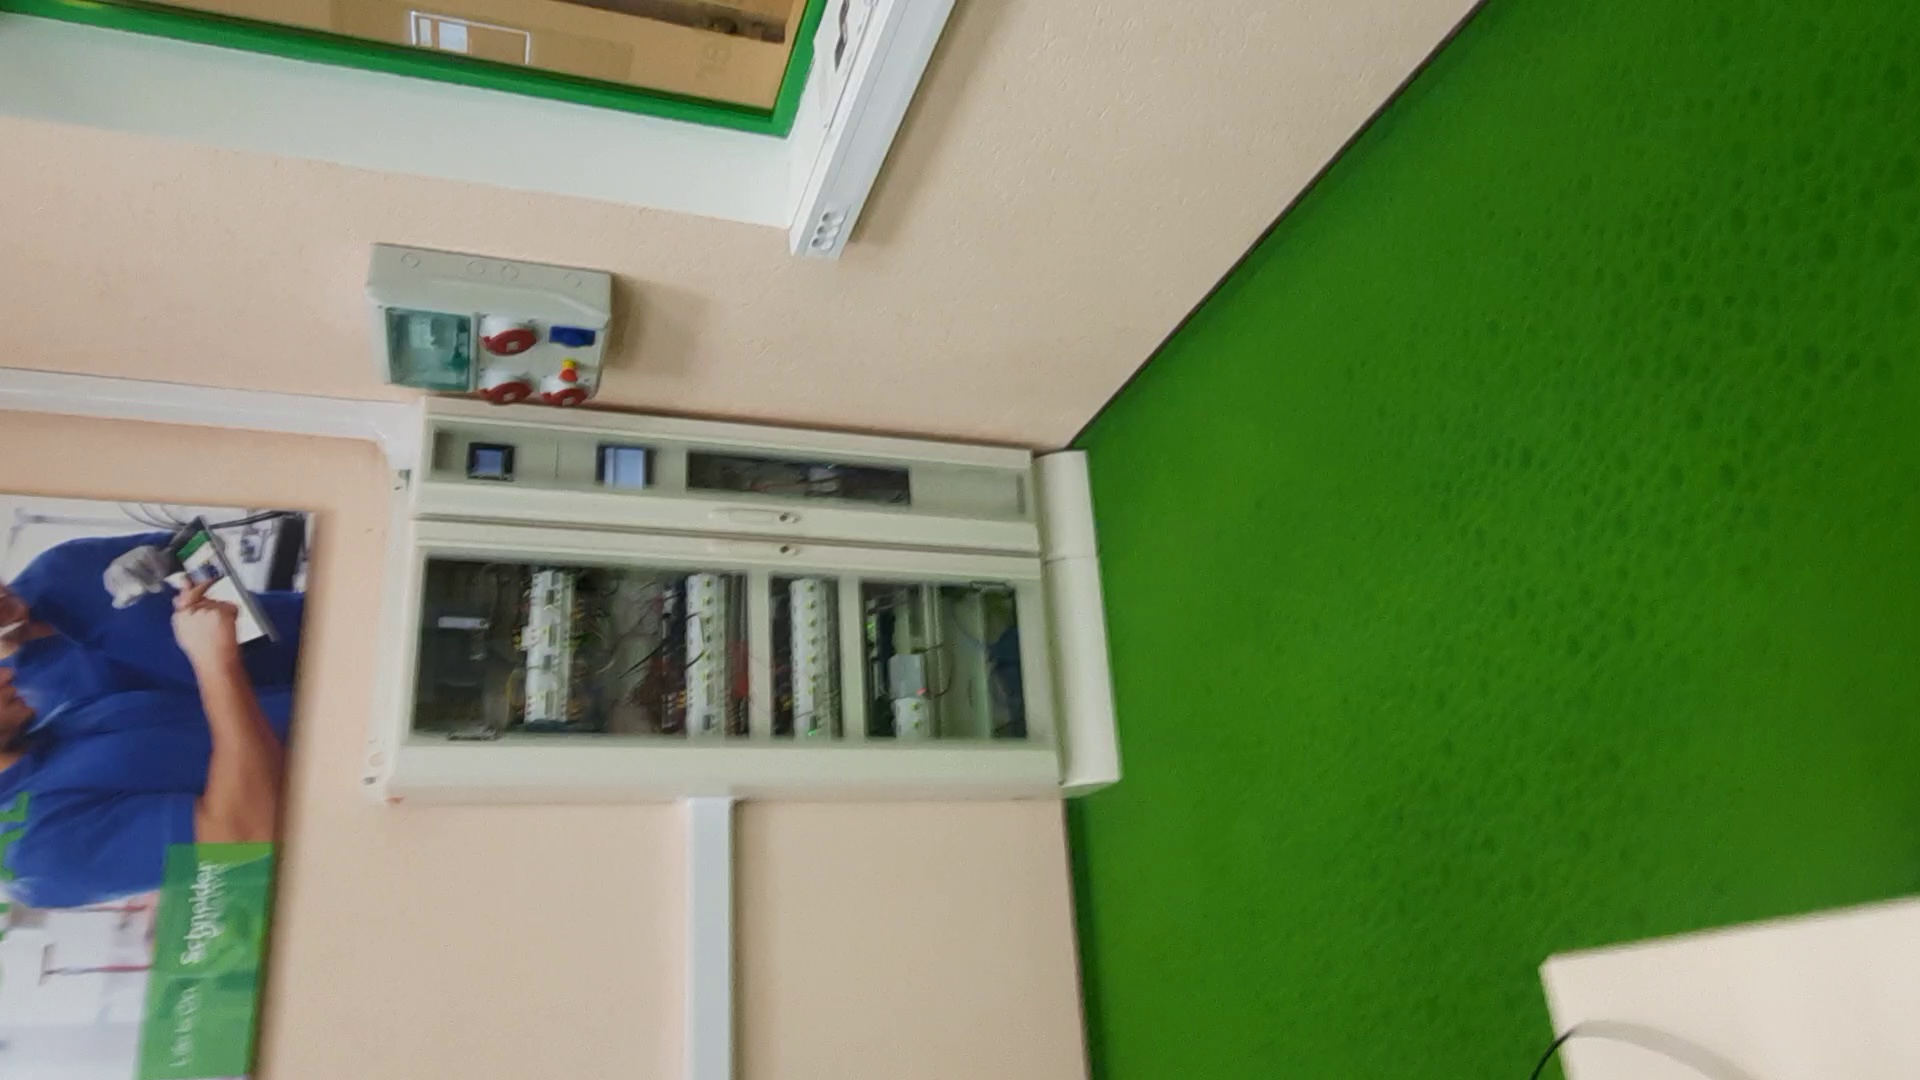stand1: (384, 405, 1117, 796)
